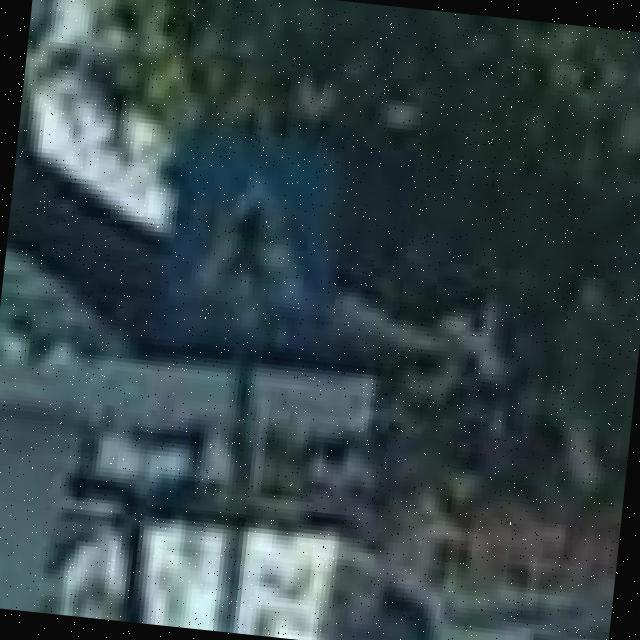Przejscie dla pieszych: (160, 126, 351, 358)
